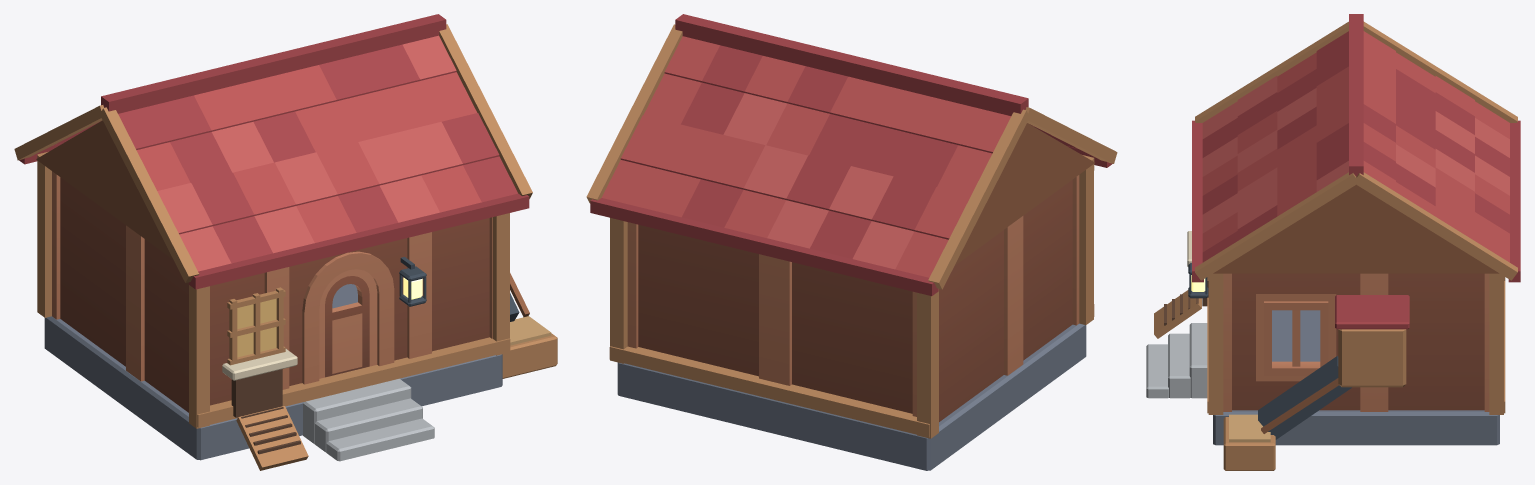
Rendered from coop_big.glb.
The picture shows the model from 3 angles, left to right: view 1: azimuth 30°, elevation 25°; view 2: azimuth 150°, elevation 25°; view 3: azimuth 270°, elevation 25°; orthographic projection. The views are drawn at different scales.
Visible parts, largest first — view 1: coop_big_建筑共用调色板.004, coop_big_fantasy-town-kit 调色板; view 2: coop_big_建筑共用调色板.004, coop_big_fantasy-town-kit 调色板; view 3: coop_big_建筑共用调色板.004, coop_big_fantasy-town-kit 调色板.
Boxes of the visible parts, x1,y1,x2,y2 form: coop_big_建筑共用调色板.004: (14, 14, 557, 470); coop_big_fantasy-town-kit 调色板: (52, 171, 492, 412); coop_big_建筑共用调色板.004: (586, 14, 1117, 470); coop_big_fantasy-town-kit 调色板: (627, 175, 1079, 421); coop_big_建筑共用调色板.004: (1146, 14, 1520, 470); coop_big_fantasy-town-kit 调色板: (1223, 273, 1489, 411).
Size of the model in its own units: 5.14 by 3.93 by 4.67.
3 materials, 2 textured.
